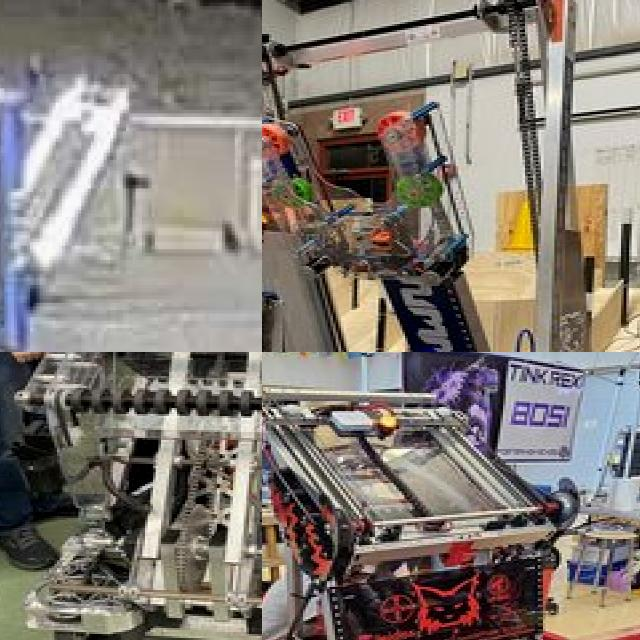FRC-Robots: (262, 12, 640, 352), (262, 357, 640, 640), (0, 352, 262, 640), (0, 6, 184, 352)
